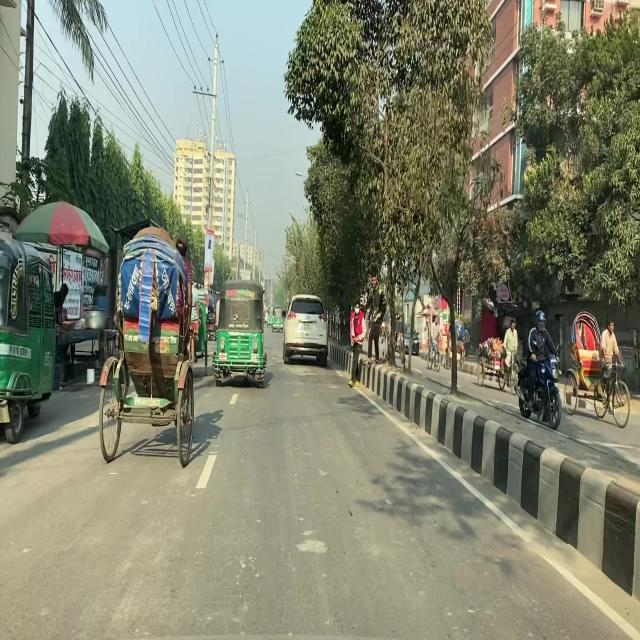car: (282, 294, 328, 367)
motorbike: (514, 337, 563, 433)
